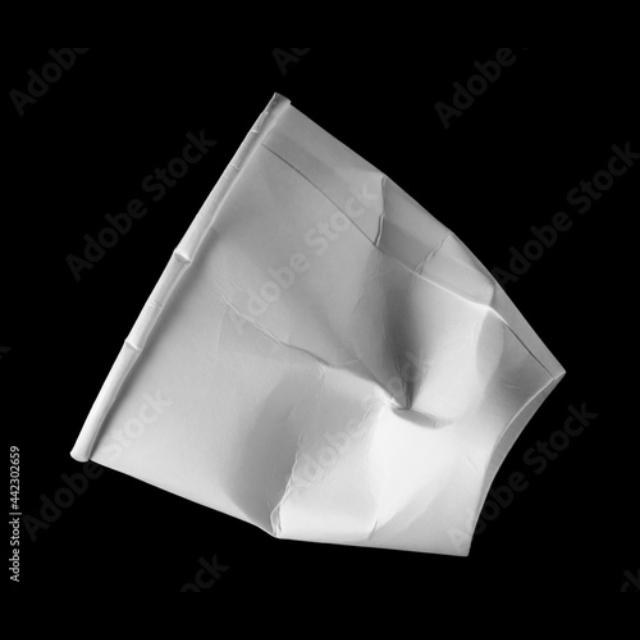trash: (69, 89, 568, 562)
